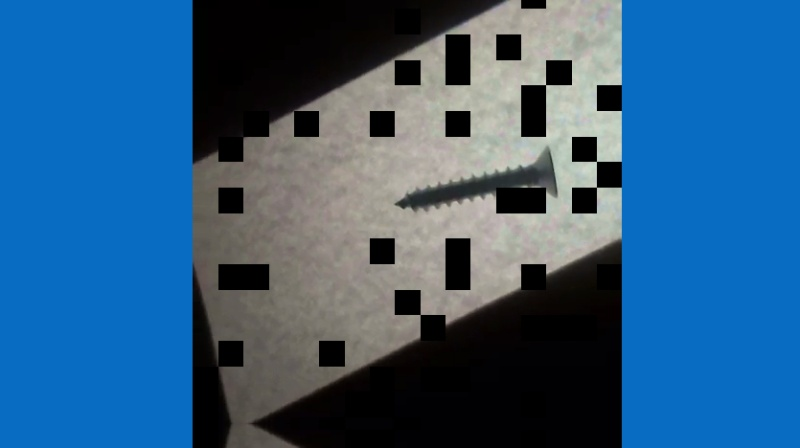S001: (391, 142, 563, 213)
